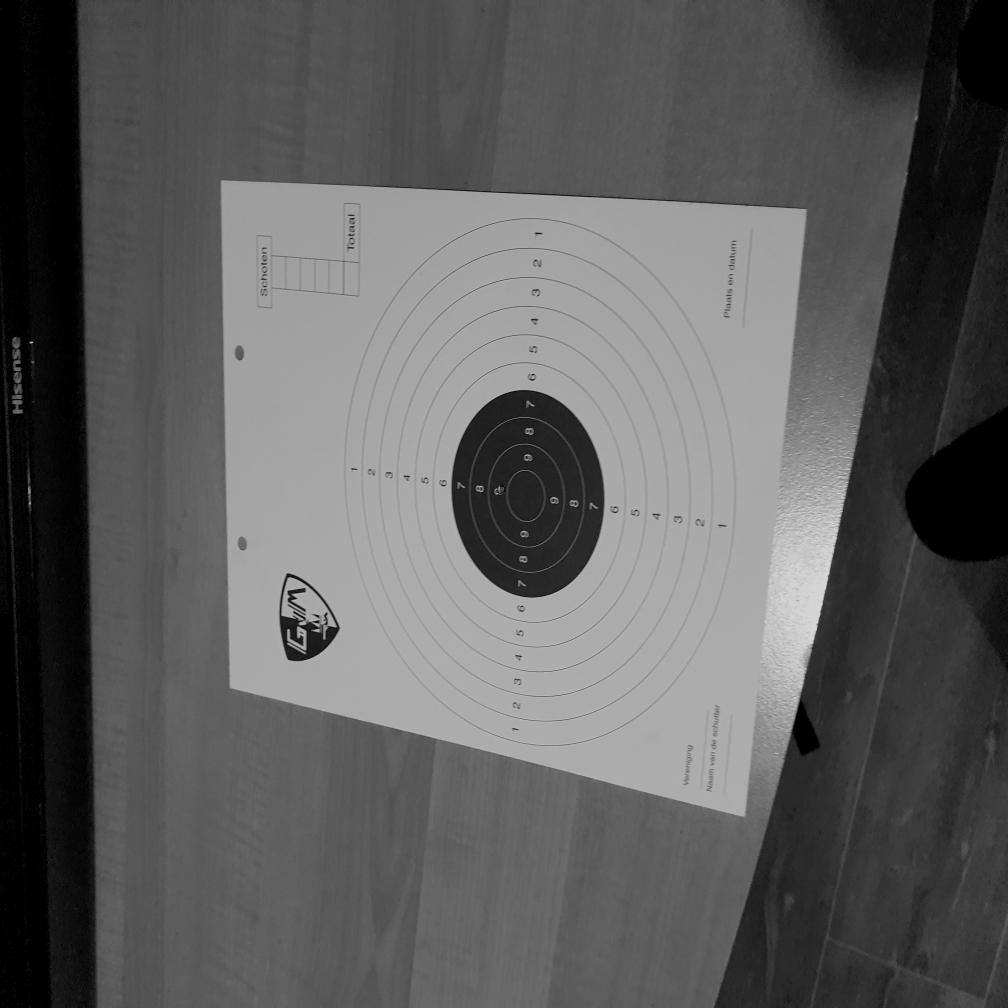9: (496, 482, 506, 496)
Target: (343, 218, 737, 749)
black_contour: (453, 388, 605, 599)
